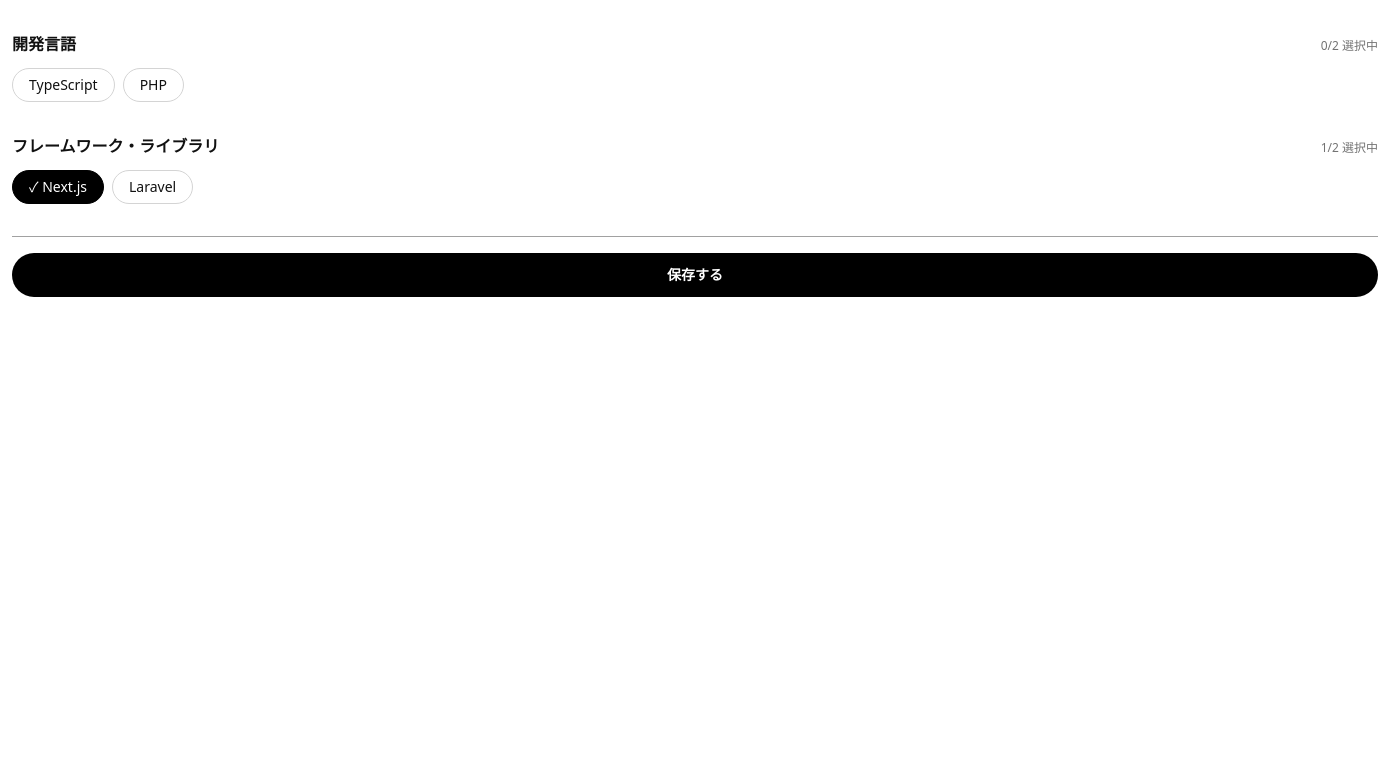
Test case: shows a toast when saving fails
What coordinates should you click on to do the following:
click the button "保存する"
I would click on:
 (695, 275)
Its box is [12,253,1378,297].
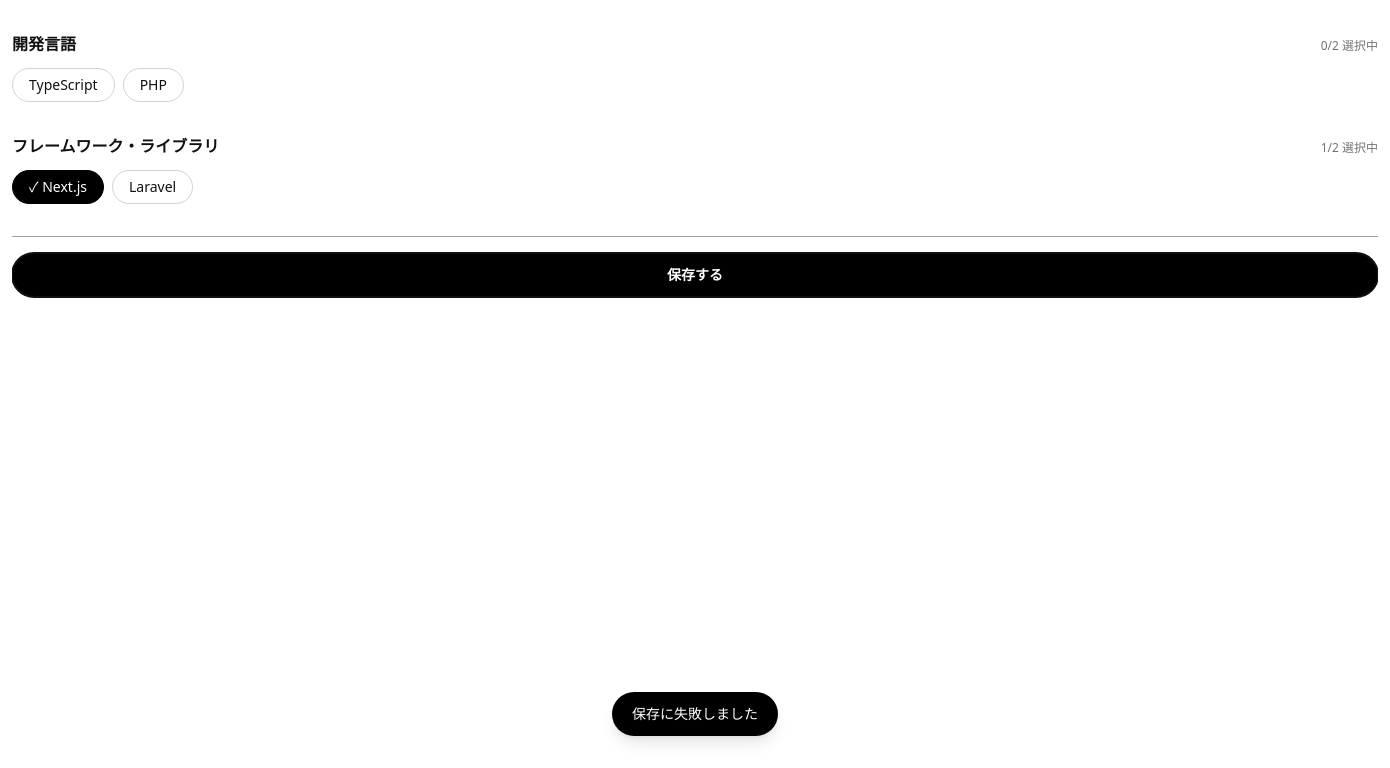
Result: the text "保存に失敗しました" is shown at [612,692,778,736]
